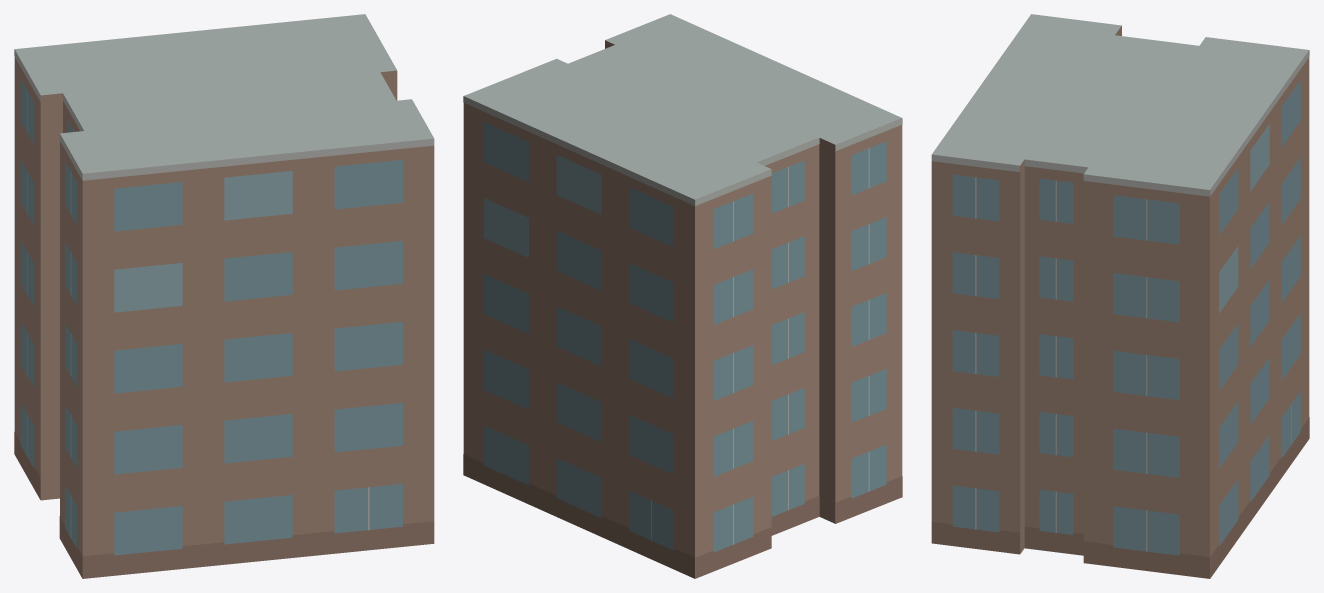
File: survey-upis-32876200.glb
3 views of the same model, side by side, from view 1: azimuth 30°, elevation 25°; view 2: azimuth 150°, elevation 25°; view 3: azimuth 270°, elevation 25° (orthographic). The views are drawn at different scales.
Parts seen in each view (by area): view 1: survey-upis-32876200.tmp; view 2: survey-upis-32876200.tmp; view 3: survey-upis-32876200.tmp.
Part boxes in pixels (box(x1,y1,x2,y2)): survey-upis-32876200.tmp: box(14, 14, 434, 578); survey-upis-32876200.tmp: box(463, 14, 902, 578); survey-upis-32876200.tmp: box(931, 14, 1309, 578).
Size of the model in its own units: 13.9 by 14.3 by 12.6.
